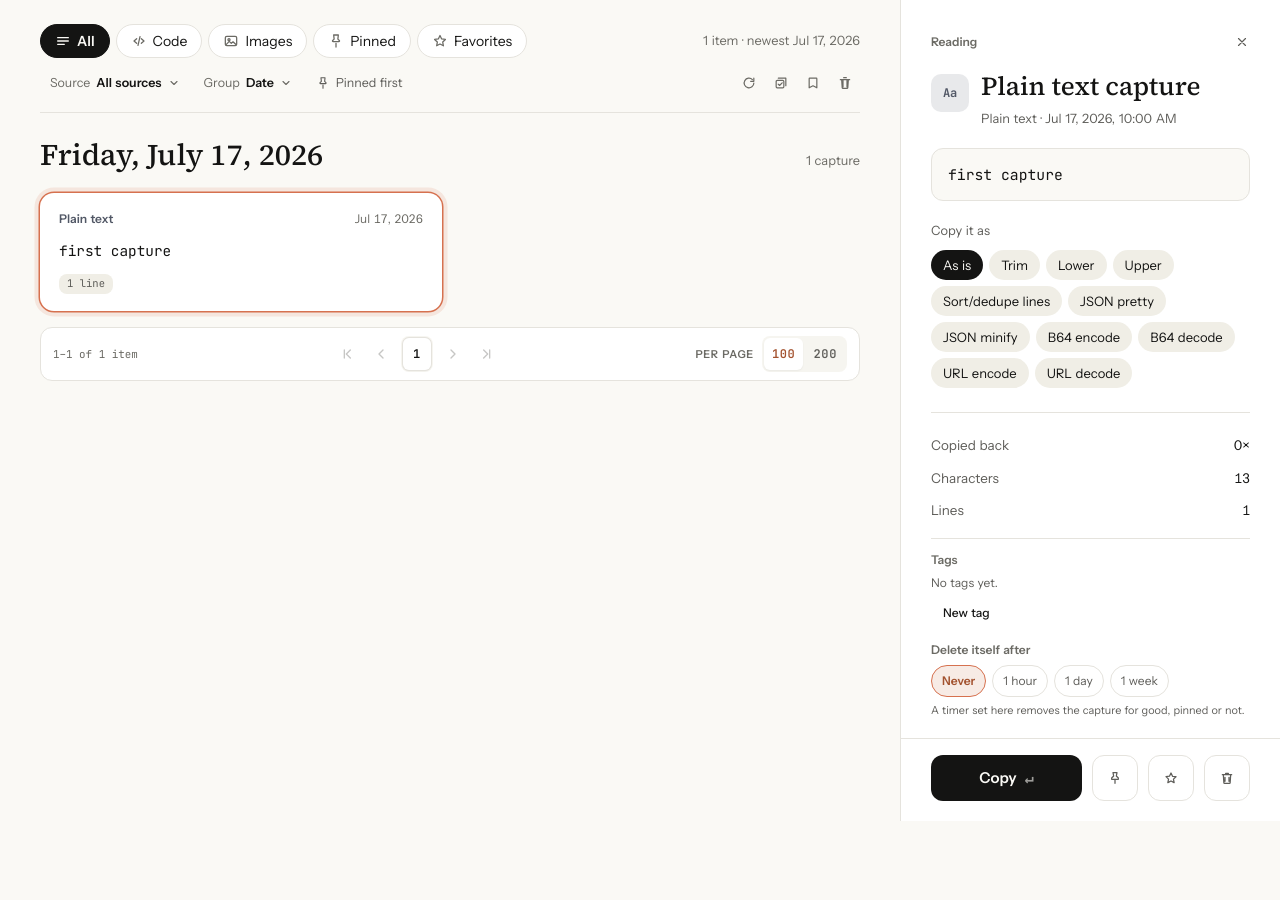
Scenario: ClipboardPage › says so when the active filter hides a manual save
Expected: the option "Plain text Jul 17, 2026 first capture 1 line" is shown, [40,193,442,311]
Step 1. Click the button "Code" → (159, 41), box [116,24,202,58]
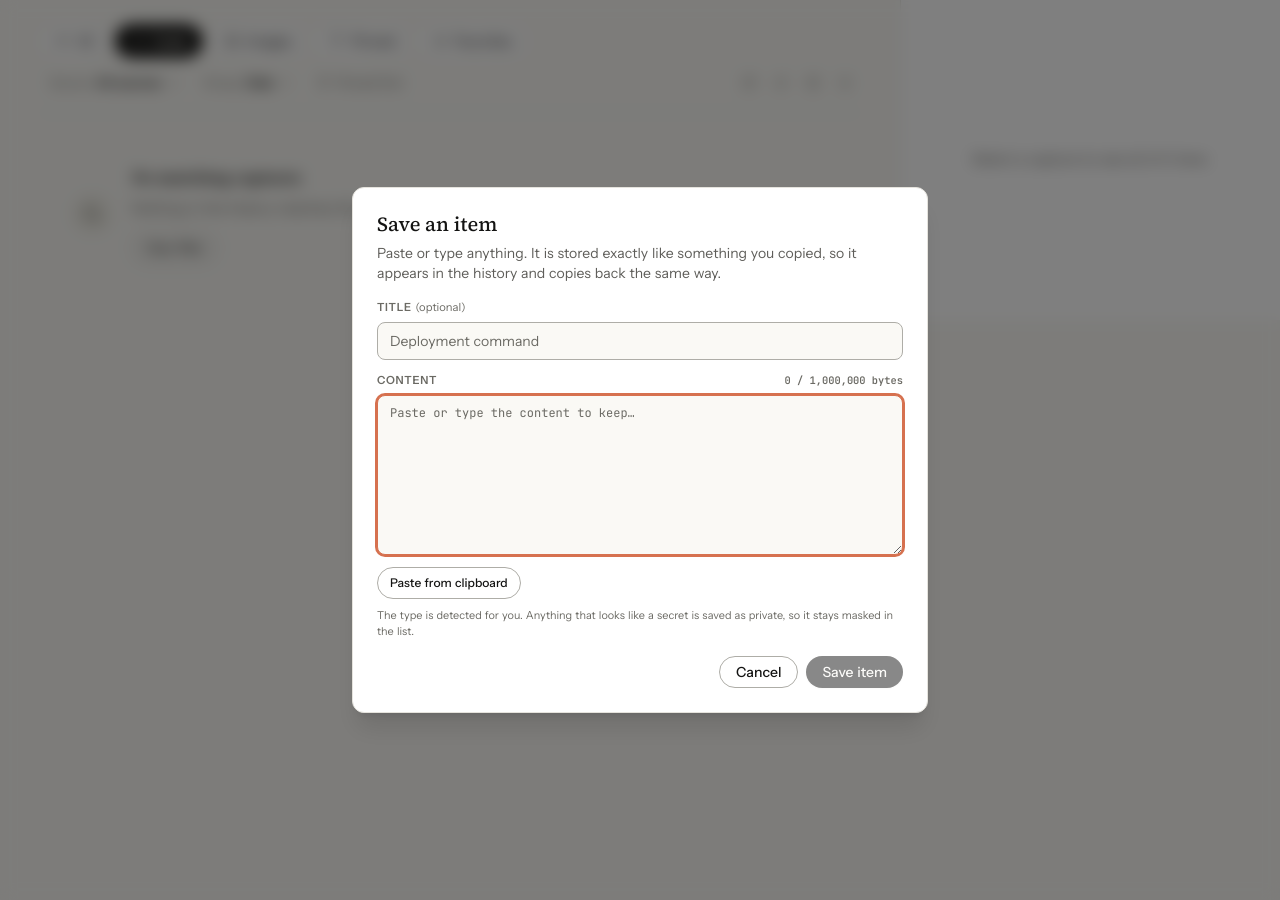
Step 2. Type "plain text" into the text box labelled "Content 0 / 1,000,000 bytes" → (640, 475), box [377,395,903,555]
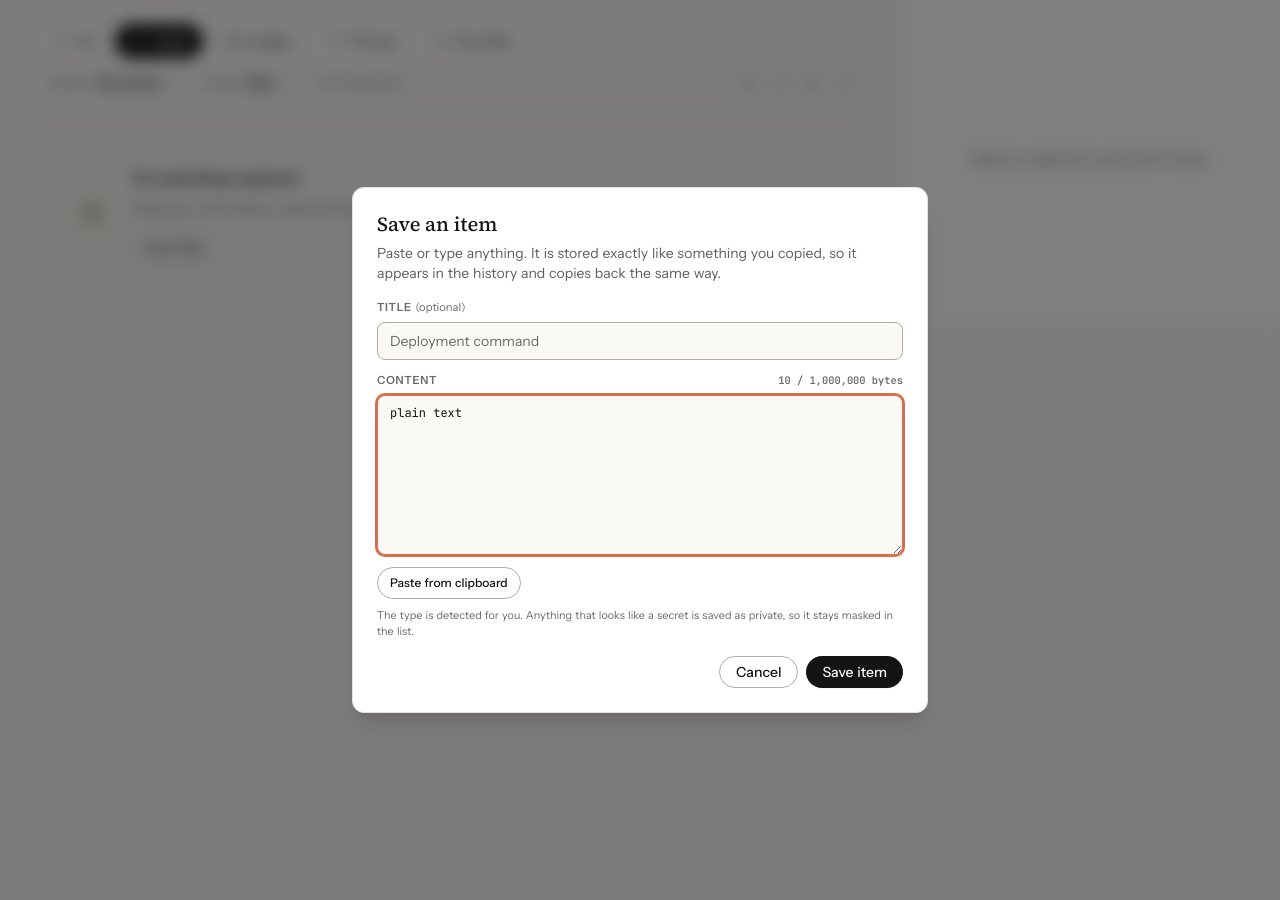
Step 3. Click the button "Save item" → (855, 672), box [806,656,903,688]
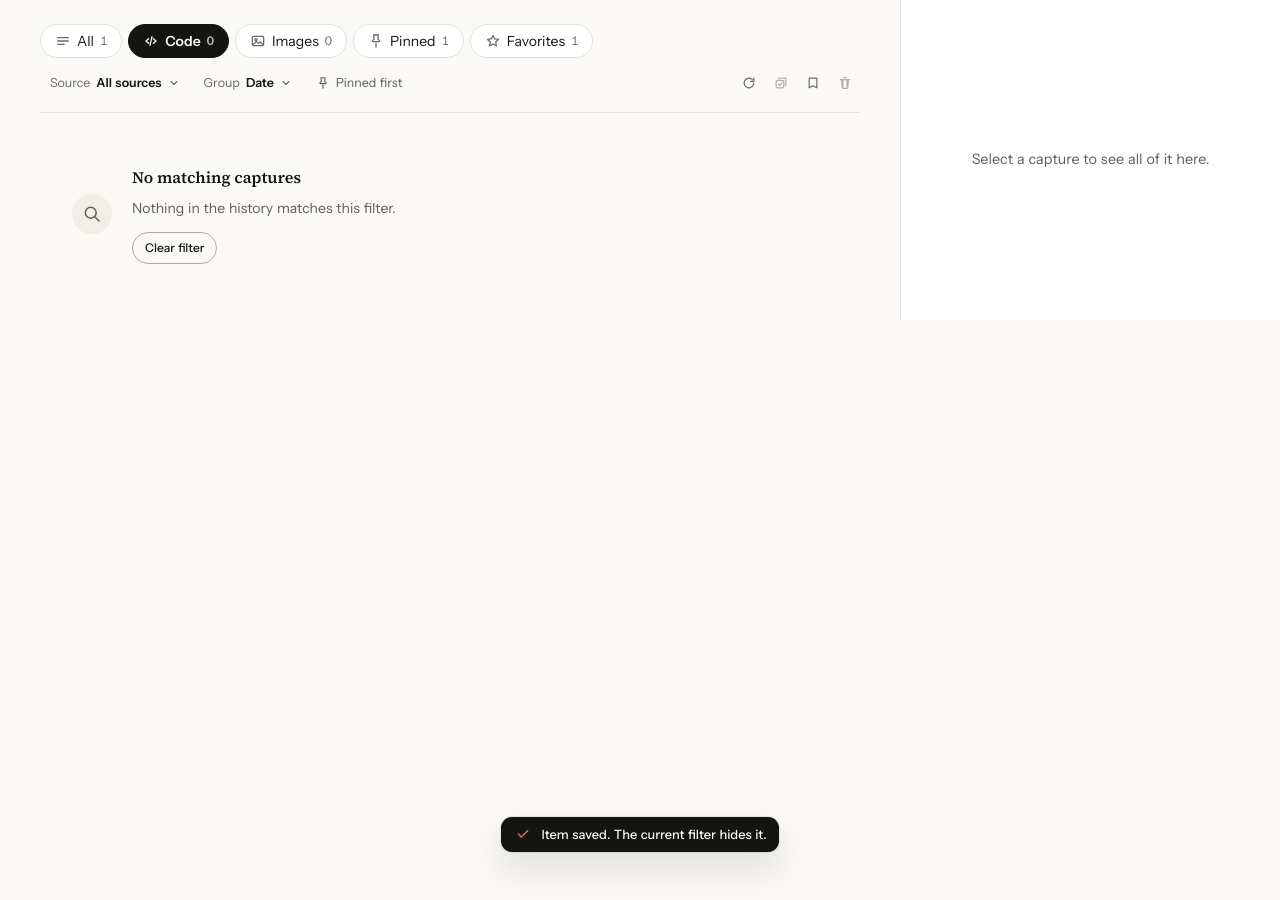
Result: the text "Item saved. The current filter hides it." is shown at [542,825,767,844]
